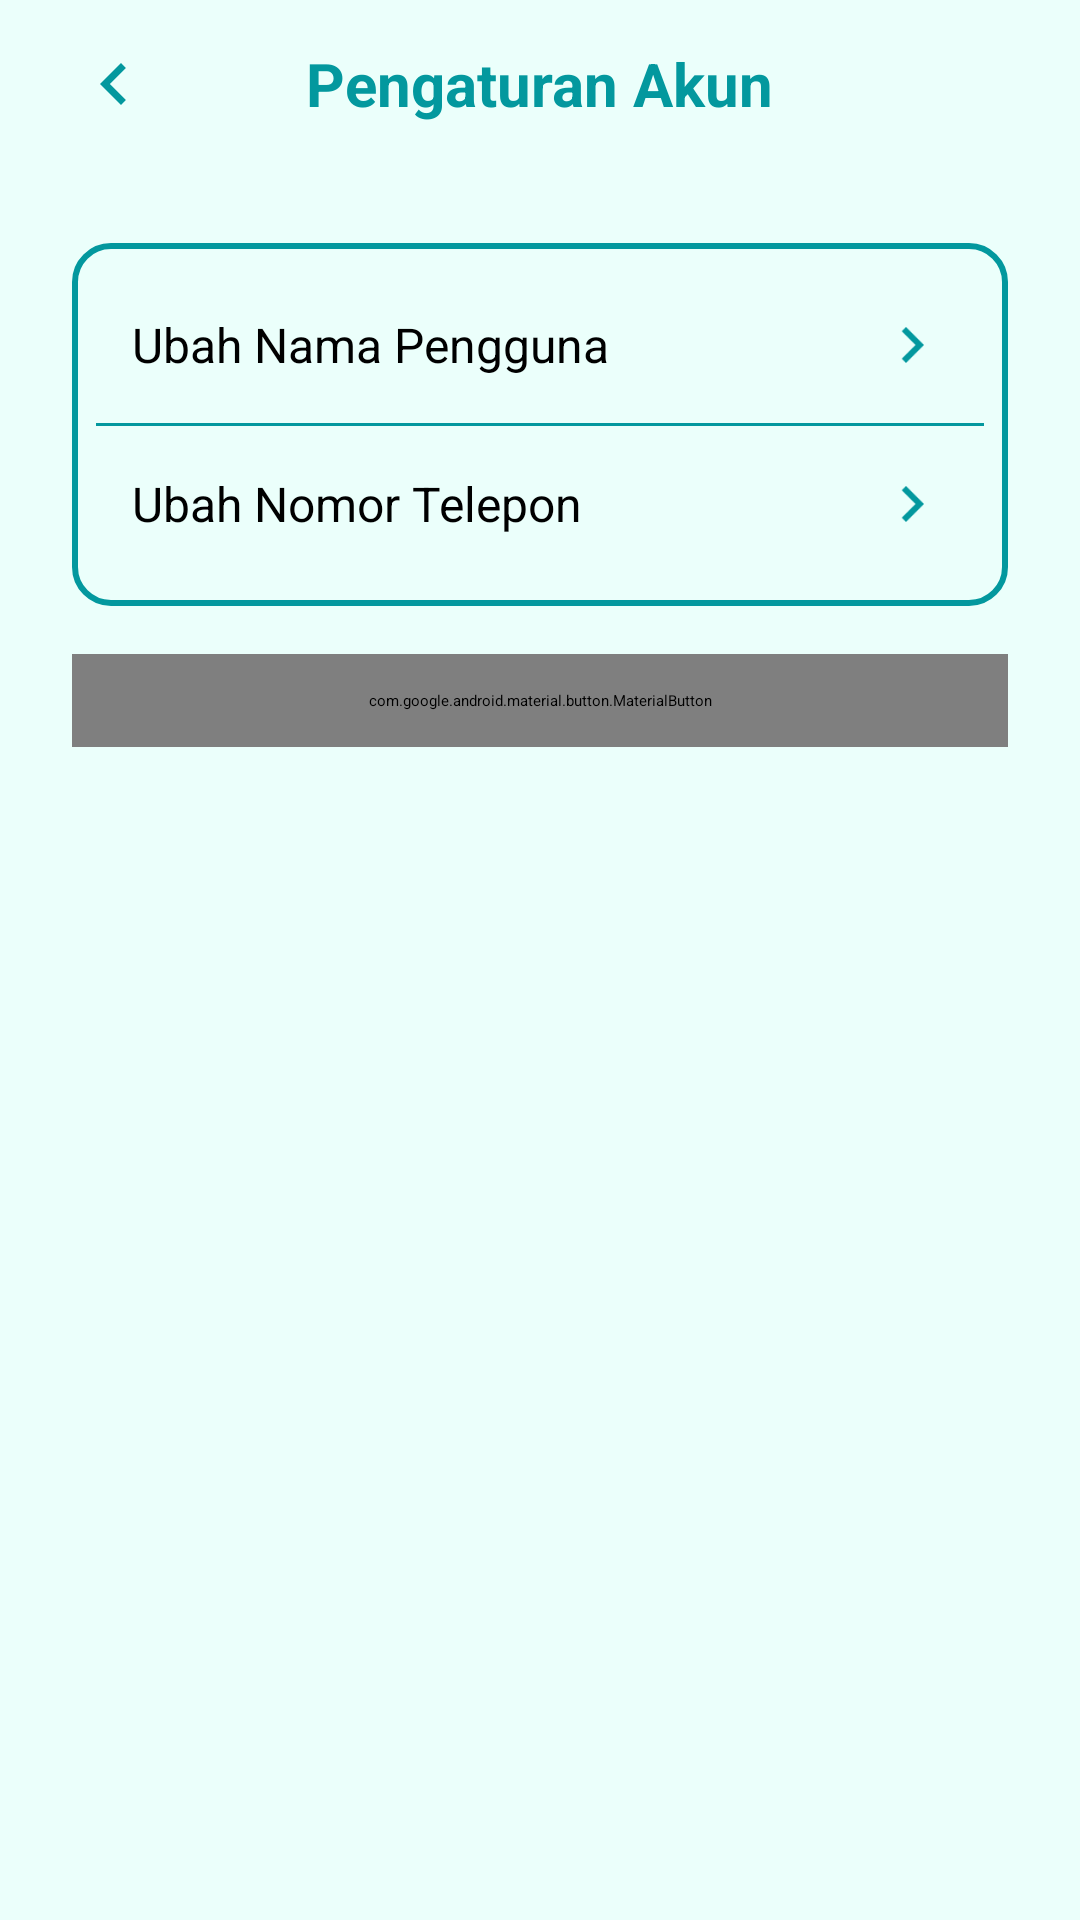

Icons on this 1080 x 1920 Android screen, each with the point to tap as (x,y):
Kembali: (113,84)
